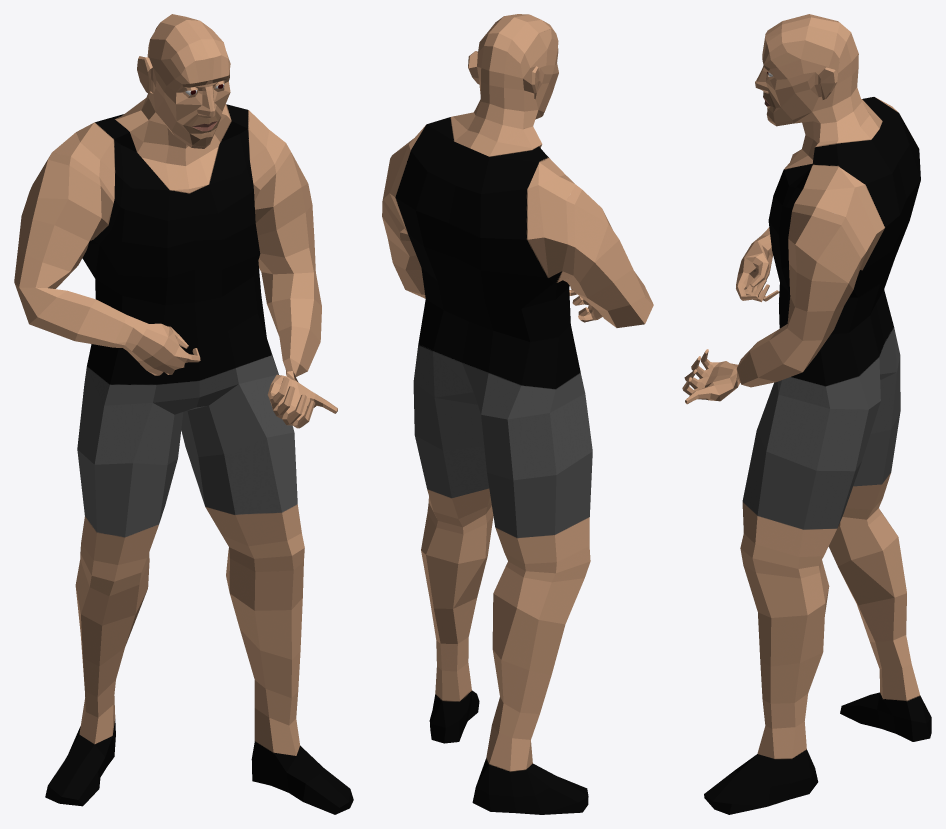
Rendered from PlayerIdle(35).obj.
The picture shows the model from 3 angles, left to right: view 1: azimuth 30°, elevation 25°; view 2: azimuth 150°, elevation 25°; view 3: azimuth 270°, elevation 25°; orthographic projection. The views are drawn at different scales.
Parts seen in each view (by area): view 1: Plane002; view 2: Plane002; view 3: Plane002.
Boxes of the visible parts, x1,y1,x2,y2 form: Plane002: (14,14,353,814); Plane002: (382,14,653,814); Plane002: (682,14,931,814).
Bounding box in the file's own units: 675 × 1807 × 552.
